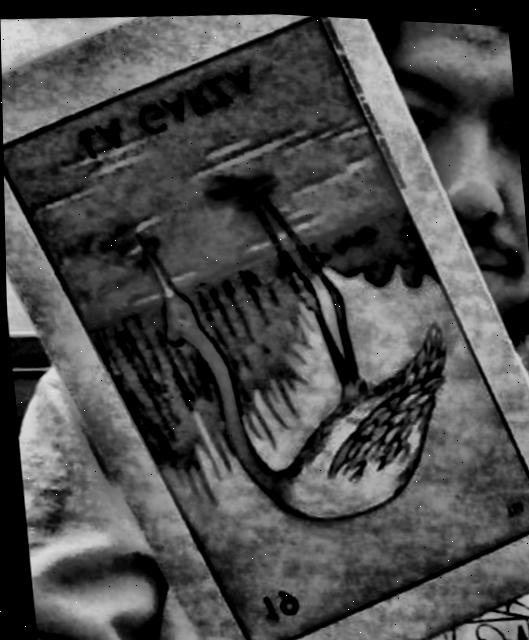El Garza: (3, 14, 529, 640)
